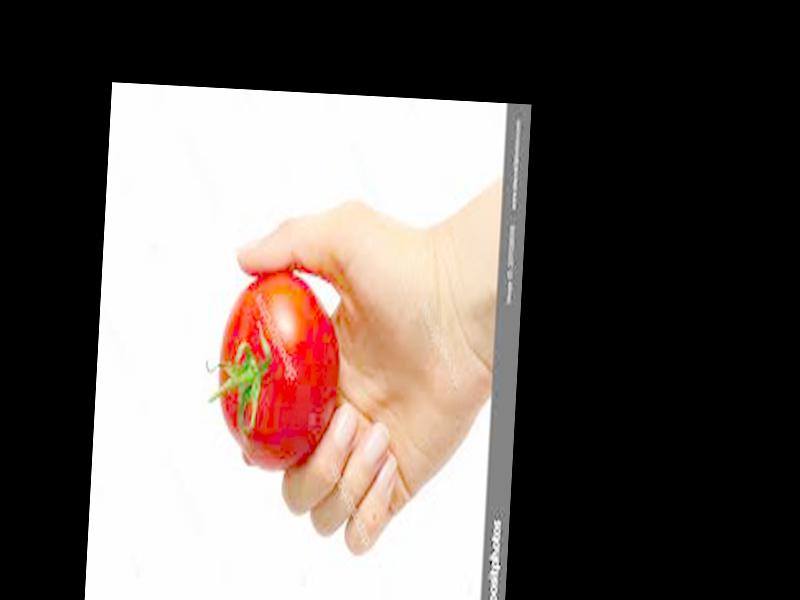Tomato: (212, 269, 345, 470)
